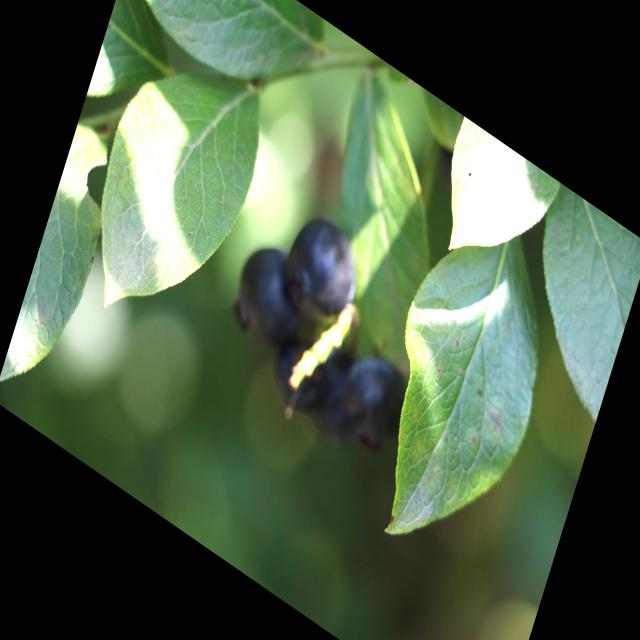blueberry: (225, 222, 323, 362), (279, 203, 370, 339), (331, 334, 417, 471), (299, 332, 372, 457), (256, 322, 333, 431)
